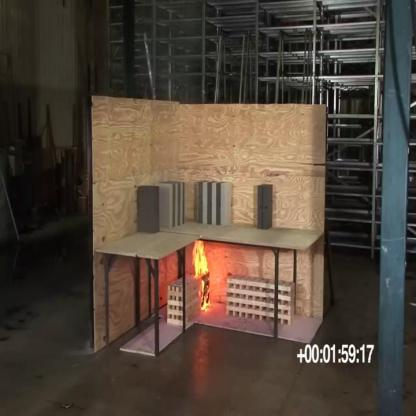fire: (191, 236, 211, 313)
